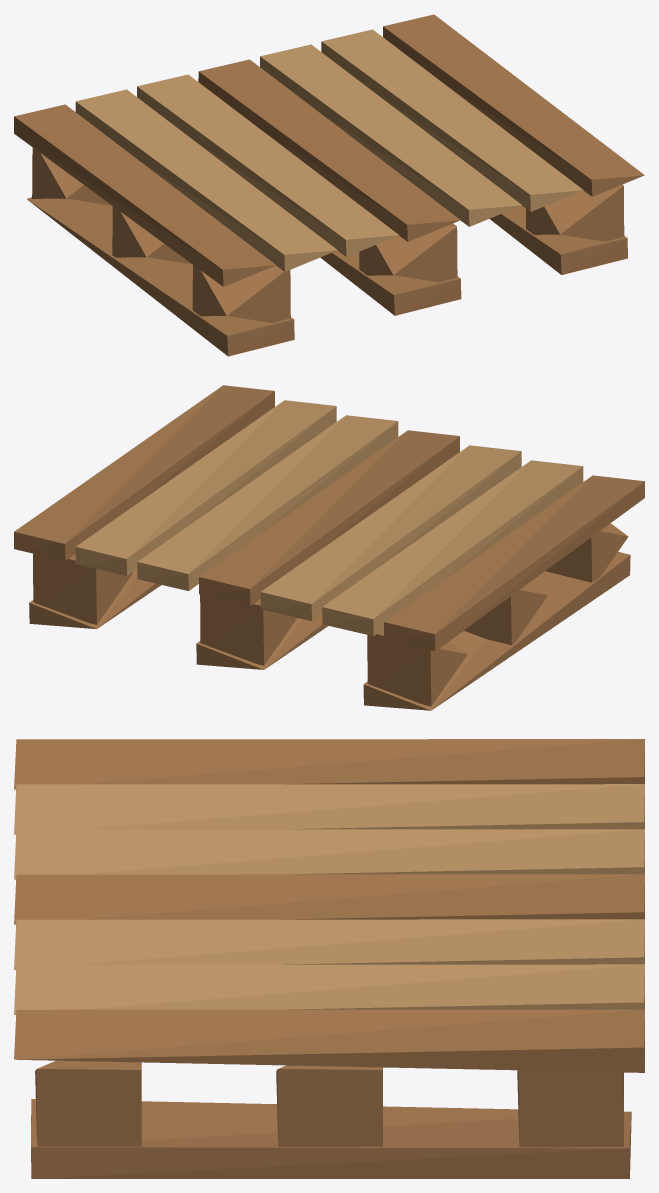
File: dock-pallet.low.glb
The picture shows the model from 3 angles, top to bottom: view 1: azimuth 30°, elevation 25°; view 2: azimuth 150°, elevation 25°; view 3: azimuth 270°, elevation 25°; orthographic projection. The views are drawn at different scales.
Visible parts, largest first — view 1: geometry:body:0, geometry:body:1; view 2: geometry:body:0, geometry:body:1; view 3: geometry:body:0, geometry:body:1.
Boxes of the visible parts, x1=… form: geometry:body:0: x1=14, y1=14, x2=644, y2=356; geometry:body:1: x1=75, y1=29, x2=583, y2=271; geometry:body:0: x1=14, y1=385, x2=644, y2=710; geometry:body:1: x1=75, y1=400, x2=583, y2=636; geometry:body:0: x1=14, y1=739, x2=644, y2=1178; geometry:body:1: x1=14, y1=784, x2=644, y2=1014.
Bounding box in the file's own units: 1.21 × 0.256 × 1.05.
